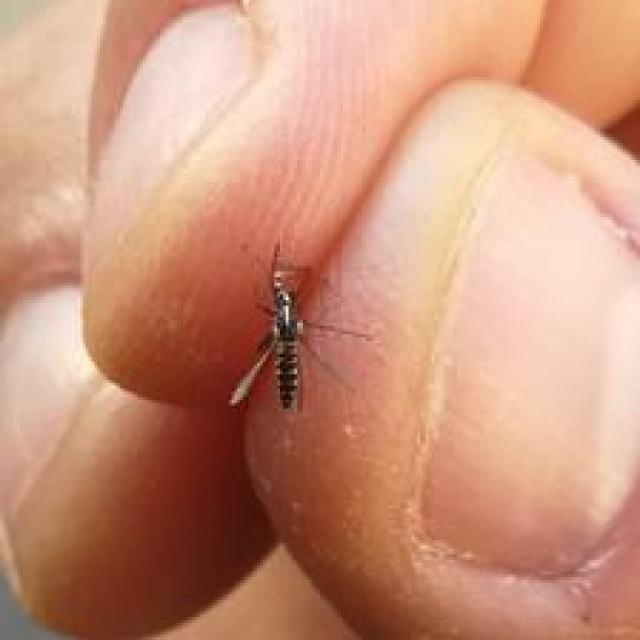Aedes albopictus: (226, 240, 371, 414)
